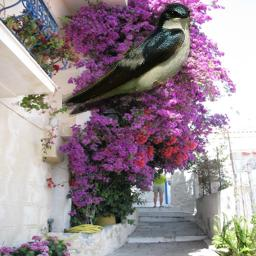Swallow: (62, 2, 193, 117)
